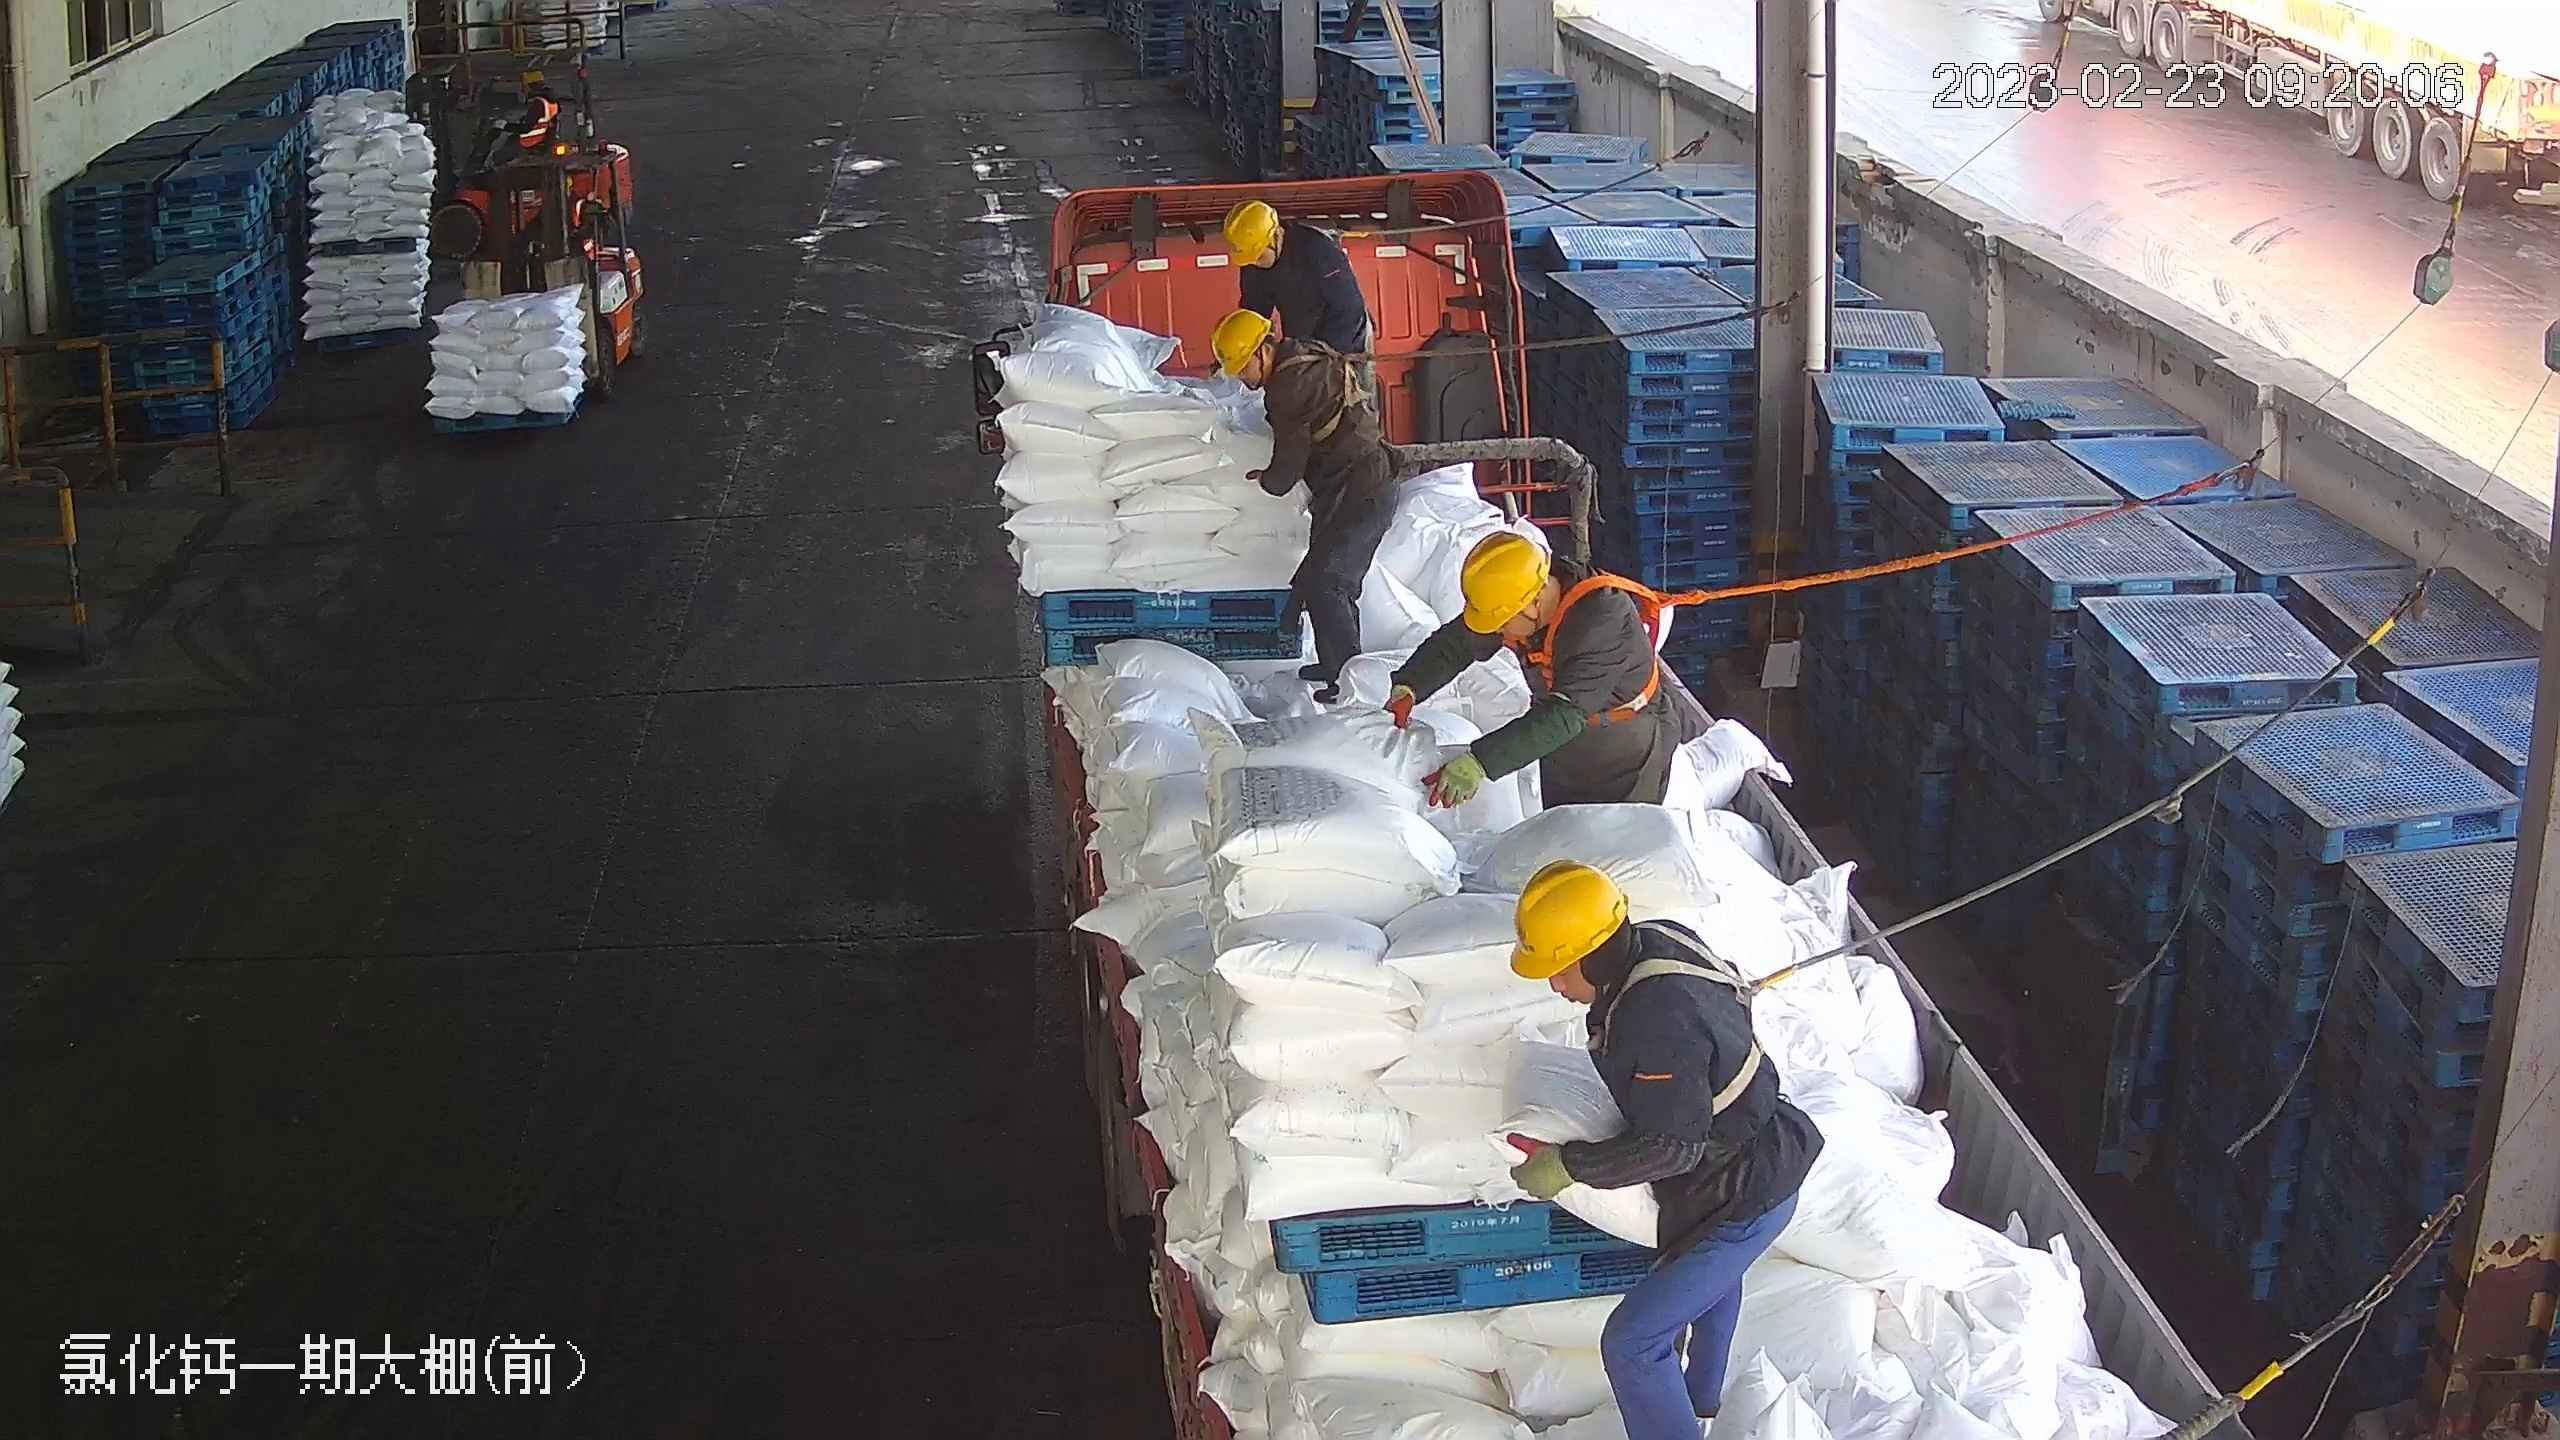belt: (1604, 919, 1793, 1112), (1514, 566, 1691, 718), (1278, 339, 1390, 438), (1293, 213, 1362, 265)
head: (1511, 860, 1734, 1061), (1445, 530, 1640, 685), (1210, 305, 1336, 417), (1225, 198, 1340, 295)
helmet: (1512, 860, 1628, 975), (1457, 531, 1549, 634), (1212, 306, 1274, 377), (1223, 198, 1279, 264)
people: (1505, 858, 1821, 1437), (1374, 534, 1689, 824), (1208, 304, 1395, 713), (1222, 195, 1376, 405)
truck: (979, 171, 2255, 1440)
